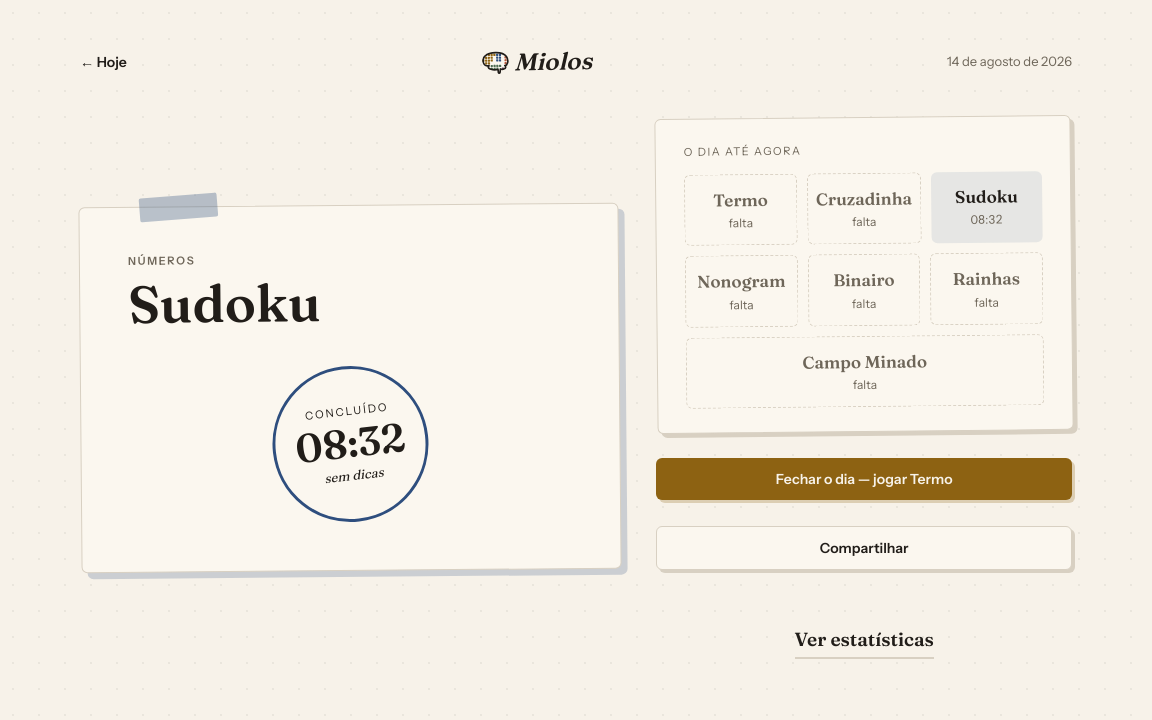
what the player is told, per rejection (T-WEB-S197) › a clipboard rejection renders the one failure the player can see
Click the button "Compartilhar".
click(864, 548)  # box [656,526,1072,570]
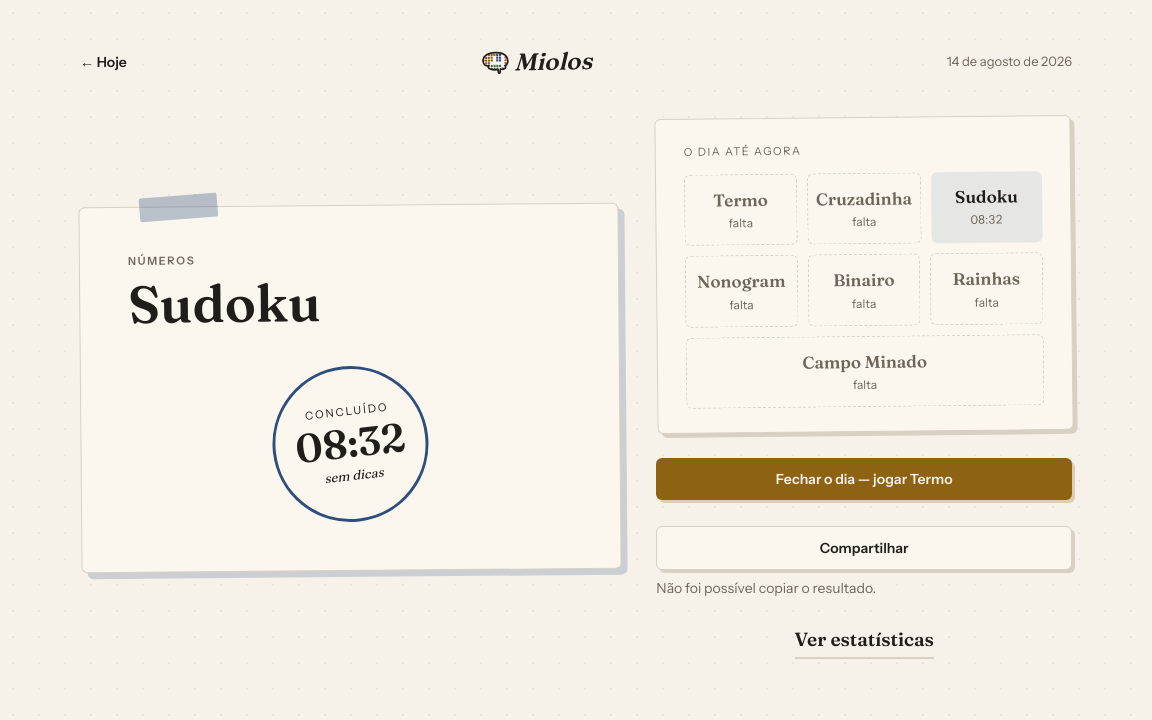
Now the message "Não foi possível copiar o resultado." is shown, box [656,579,876,597]
